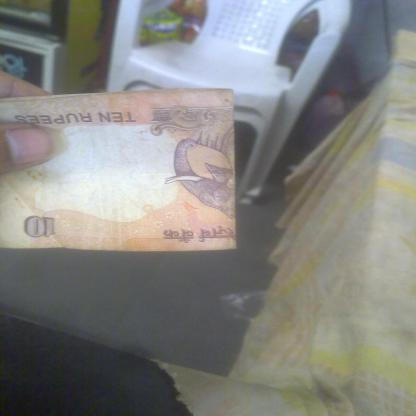Old10Back: (0, 88, 237, 253)
